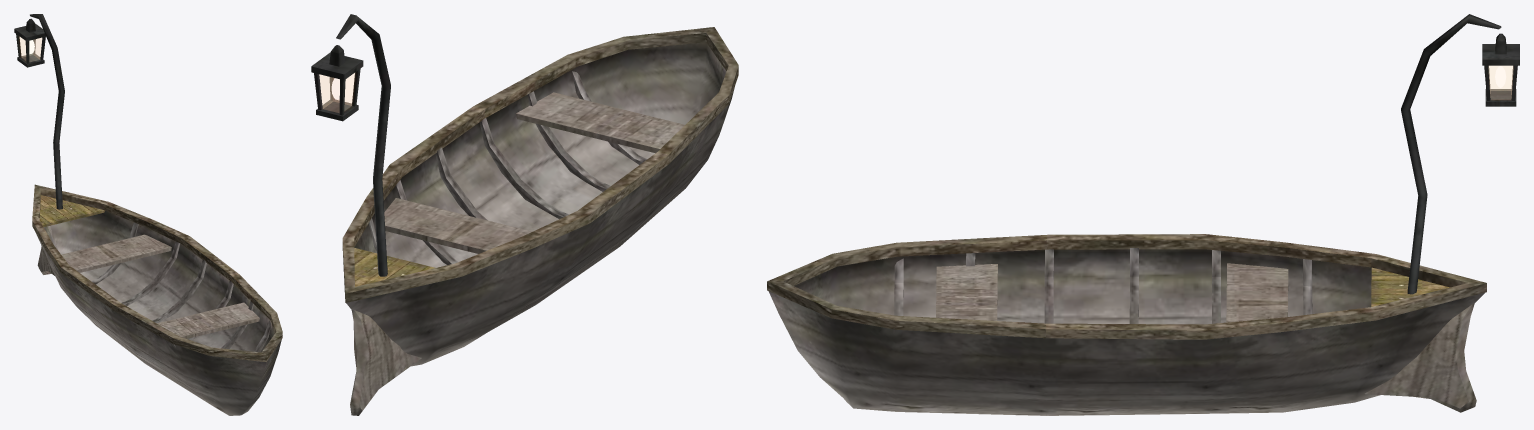
File: PRP_Gondola.glb
3 views of the same model, side by side, from view 1: azimuth 30°, elevation 25°; view 2: azimuth 150°, elevation 25°; view 3: azimuth 270°, elevation 25° (orthographic). The views are drawn at different scales.
Visible parts, largest first — view 1: Victorian Row Boat_Boat_Tex_0, Victorian Row Boat_Boat_Metal_0, Victorian Row Boat_Boat_Glossy_0; view 2: Victorian Row Boat_Boat_Tex_0, Victorian Row Boat_Boat_Metal_0, Victorian Row Boat_Boat_Glossy_0; view 3: Victorian Row Boat_Boat_Tex_0, Victorian Row Boat_Boat_Metal_0, Victorian Row Boat_Boat_Glossy_0.
Boxes of the visible parts, left/top/right/bottom form: Victorian Row Boat_Boat_Tex_0: left=22, top=56, right=282, bottom=415; Victorian Row Boat_Boat_Metal_0: left=14, top=14, right=64, bottom=209; Victorian Row Boat_Boat_Glossy_0: left=20, top=37, right=41, bottom=61; Victorian Row Boat_Boat_Tex_0: left=336, top=27, right=738, bottom=415; Victorian Row Boat_Boat_Metal_0: left=311, top=14, right=390, bottom=276; Victorian Row Boat_Boat_Glossy_0: left=319, top=73, right=354, bottom=112; Victorian Row Boat_Boat_Tex_0: left=767, top=97, right=1511, bottom=415; Victorian Row Boat_Boat_Metal_0: left=1401, top=14, right=1519, bottom=294; Victorian Row Boat_Boat_Glossy_0: left=1488, top=66, right=1513, bottom=99.
Bounding box in the file's own units: 1.45 × 2.79 × 4.79.
4 materials, 3 textured.
